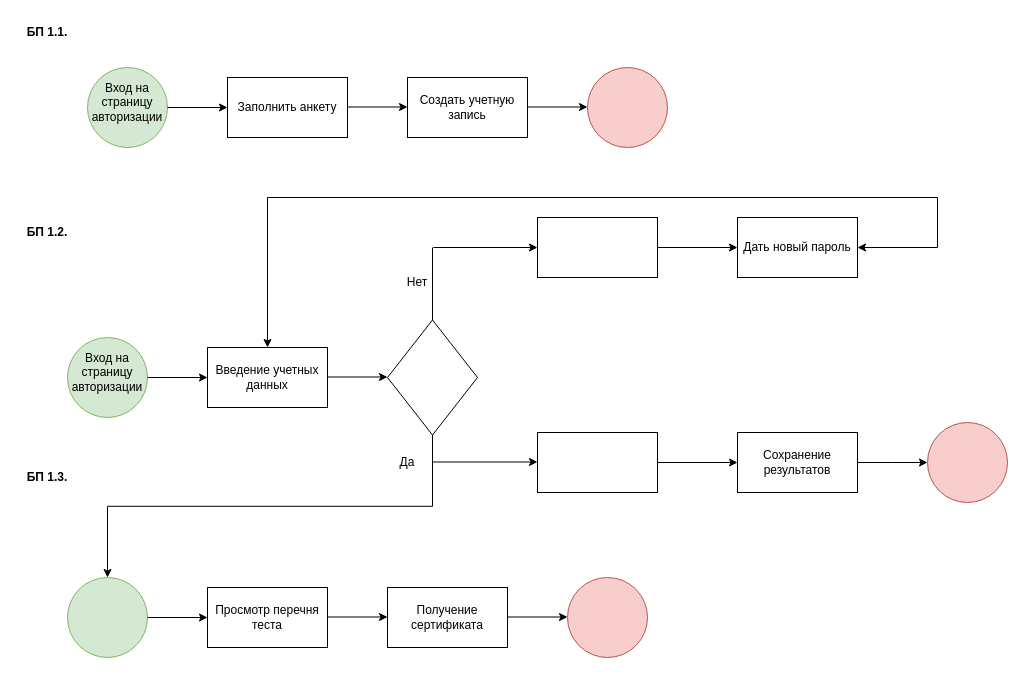
The diagram is 1025 pixels wide and 675 high, and some of its shapes have lost their labels. Here are the shapes that lost their labels. From the top down, the centre of each, then its label:
At [597,247]: "Требуется напоминание".
At [432,377]: "Проверка учетных данных".
At [597,462]: "Тестирование".
At [107,617]: "Вход на страницу".
